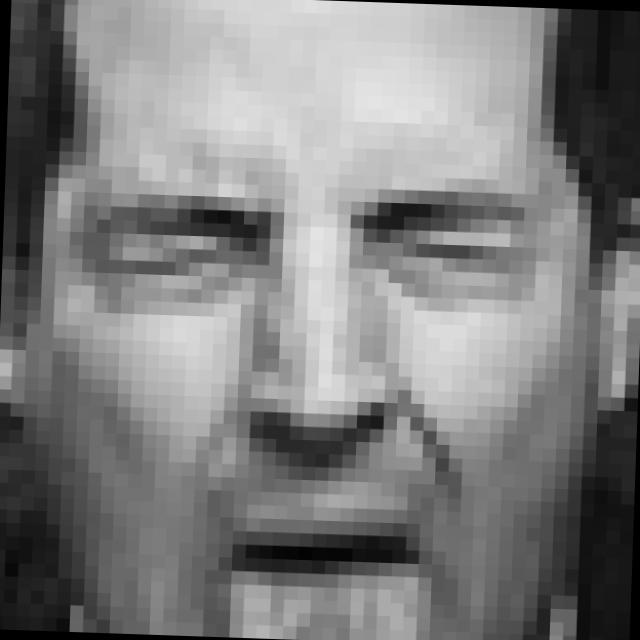disgust: (71, 163, 543, 640)
